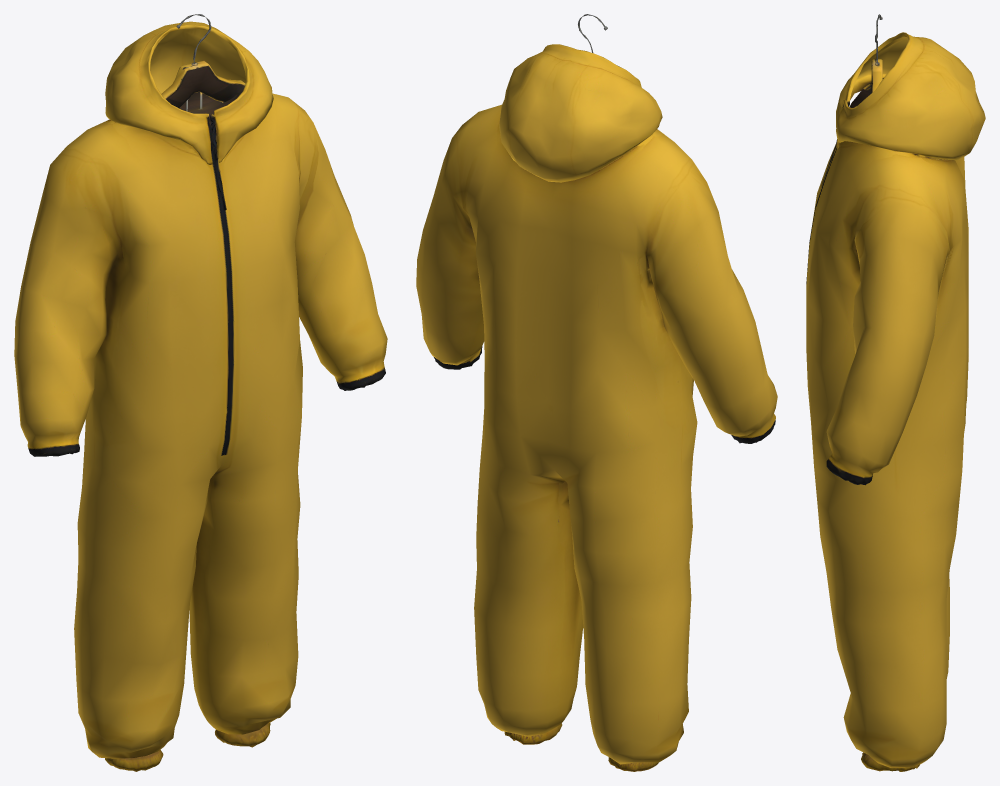
The model's file is PPE_A_SuitHang.fbx.
The picture shows the model from 3 angles, left to right: view 1: azimuth 30°, elevation 25°; view 2: azimuth 150°, elevation 25°; view 3: azimuth 270°, elevation 25°; orthographic projection. The views are drawn at different scales.
Parts seen in each view (by area): view 1: tripo_node_3714baa9-6328-444d-8f9d-eb28c31df685; view 2: tripo_node_3714baa9-6328-444d-8f9d-eb28c31df685; view 3: tripo_node_3714baa9-6328-444d-8f9d-eb28c31df685.
Part boxes in pixels (x1,y1,x2,y2): tripo_node_3714baa9-6328-444d-8f9d-eb28c31df685: [14, 14, 387, 771]; tripo_node_3714baa9-6328-444d-8f9d-eb28c31df685: [416, 14, 777, 771]; tripo_node_3714baa9-6328-444d-8f9d-eb28c31df685: [806, 14, 985, 771].
Size of the model in its own units: 0.502 by 0.998 by 0.2246.
